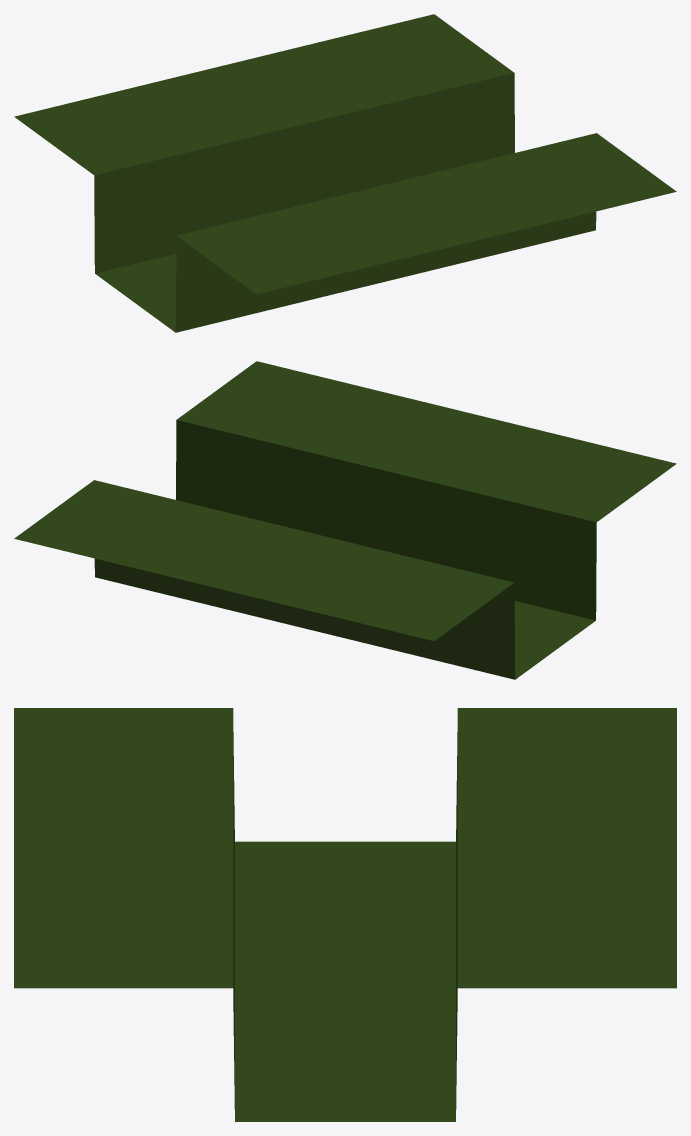
The model's file is GRASS_TUNNEL.fbx.
The picture shows the model from 3 angles, top to bottom: view 1: azimuth 30°, elevation 25°; view 2: azimuth 150°, elevation 25°; view 3: azimuth 270°, elevation 25°; orthographic projection. The views are drawn at different scales.
Parts seen in each view (by area): view 1: GREEN TUNNEL YOL; view 2: GREEN TUNNEL YOL; view 3: GREEN TUNNEL YOL.
Boxes of the visible parts, <box> form: GREEN TUNNEL YOL: <box>14,14,676,332</box>; GREEN TUNNEL YOL: <box>14,361,676,679</box>; GREEN TUNNEL YOL: <box>14,708,676,1121</box>.
Bounding box in the file's own units: 1800 × 400 × 1800.
